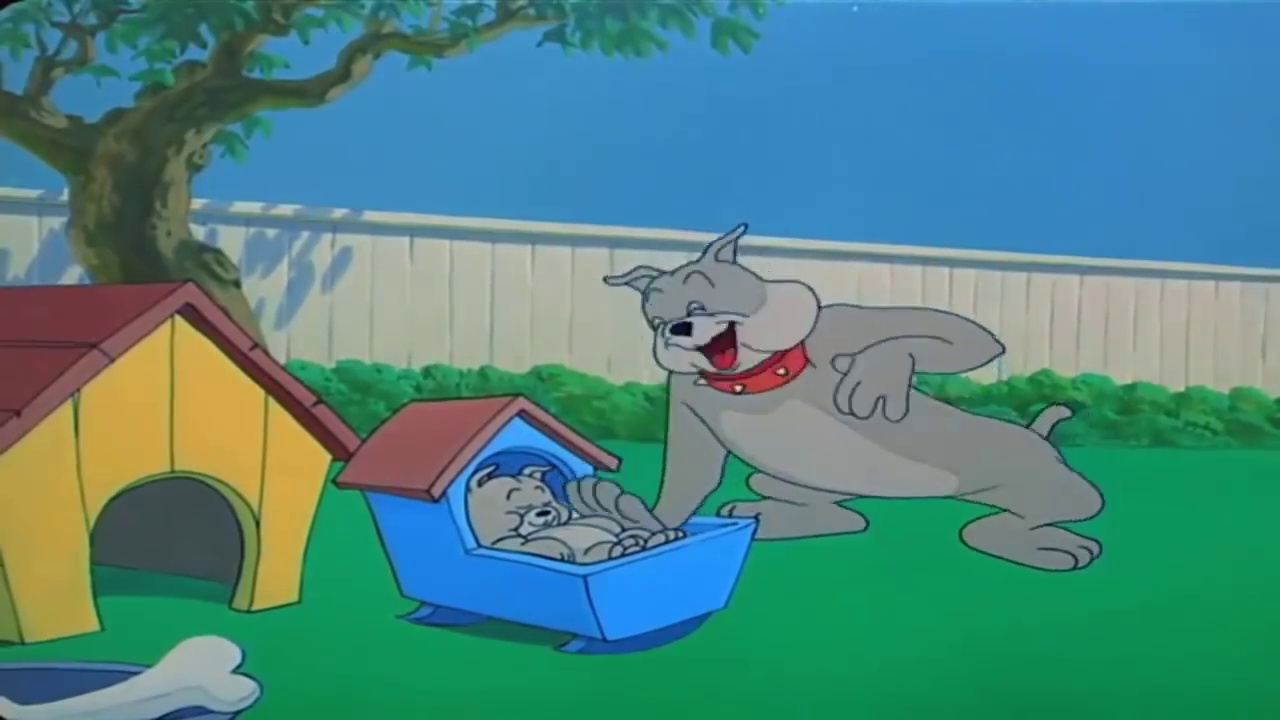spike: (597, 219, 821, 405)
